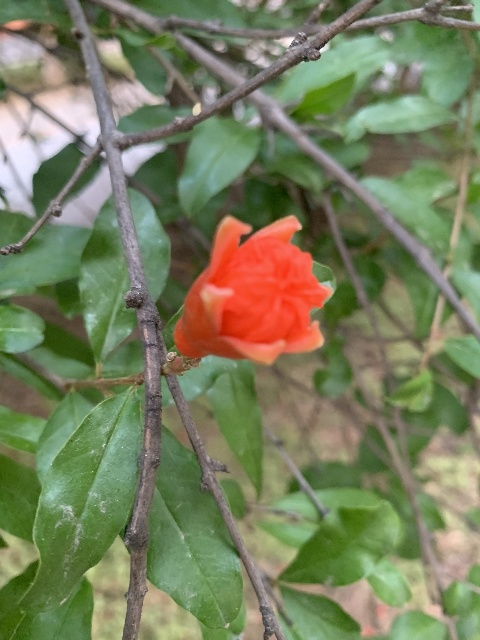flower: (173, 213, 333, 366)
